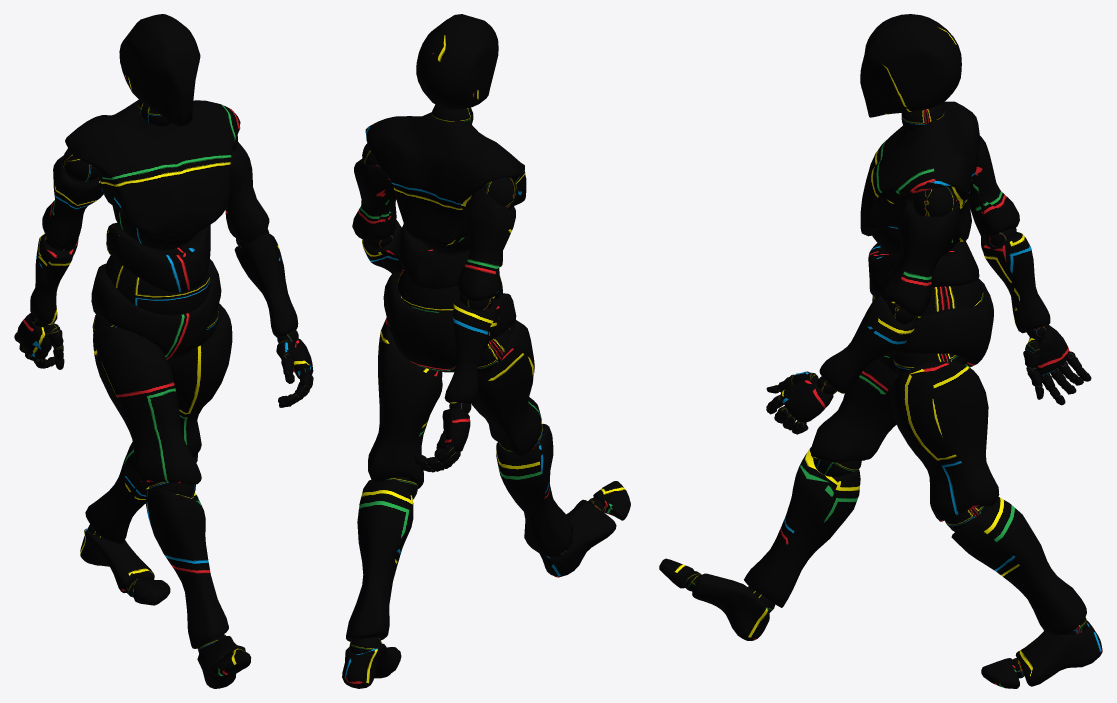
Rendered from y-bot-origin_000005.obj.
The picture shows the model from 3 angles, left to right: view 1: azimuth 30°, elevation 25°; view 2: azimuth 150°, elevation 25°; view 3: azimuth 270°, elevation 25°; orthographic projection. The views are drawn at different scales.
Parts seen in each view (by area): view 1: Alpha_Surface_Alpha_SurfaceMesh, Alpha_Joints_Alpha_JointsMesh; view 2: Alpha_Surface_Alpha_SurfaceMesh, Alpha_Joints_Alpha_JointsMesh; view 3: Alpha_Surface_Alpha_SurfaceMesh, Alpha_Joints_Alpha_JointsMesh.
Part boxes in pixels (x1=…): Alpha_Surface_Alpha_SurfaceMesh: x1=16, y1=14, x2=313, y2=688; Alpha_Joints_Alpha_JointsMesh: x1=14, y1=100, x2=313, y2=653; Alpha_Surface_Alpha_SurfaceMesh: x1=342, y1=14, x2=630, y2=688; Alpha_Joints_Alpha_JointsMesh: x1=349, y1=104, x2=604, y2=653; Alpha_Surface_Alpha_SurfaceMesh: x1=659, y1=14, x2=1102, y2=688; Alpha_Joints_Alpha_JointsMesh: x1=684, y1=104, x2=1087, y2=678.
Size of the model in its own units: 0.5374 by 1.74 by 1.08.
